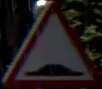Speed Breaker ahead: (3, 0, 97, 82)
